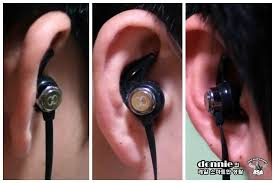earphone: (94, 9, 176, 169), (186, 11, 254, 168), (13, 10, 72, 158)
